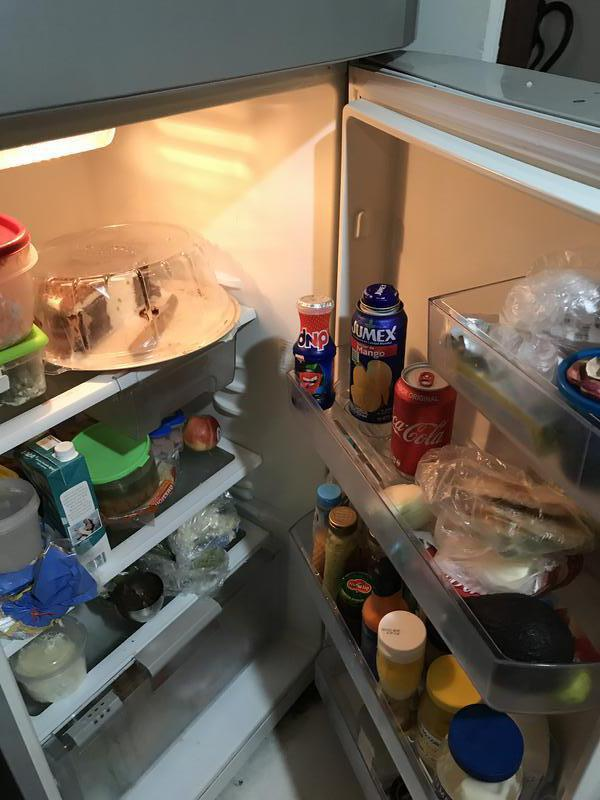coca_cola: (394, 364, 456, 478)
danup: (291, 297, 337, 410)
jugo_jumex: (351, 284, 402, 424)
